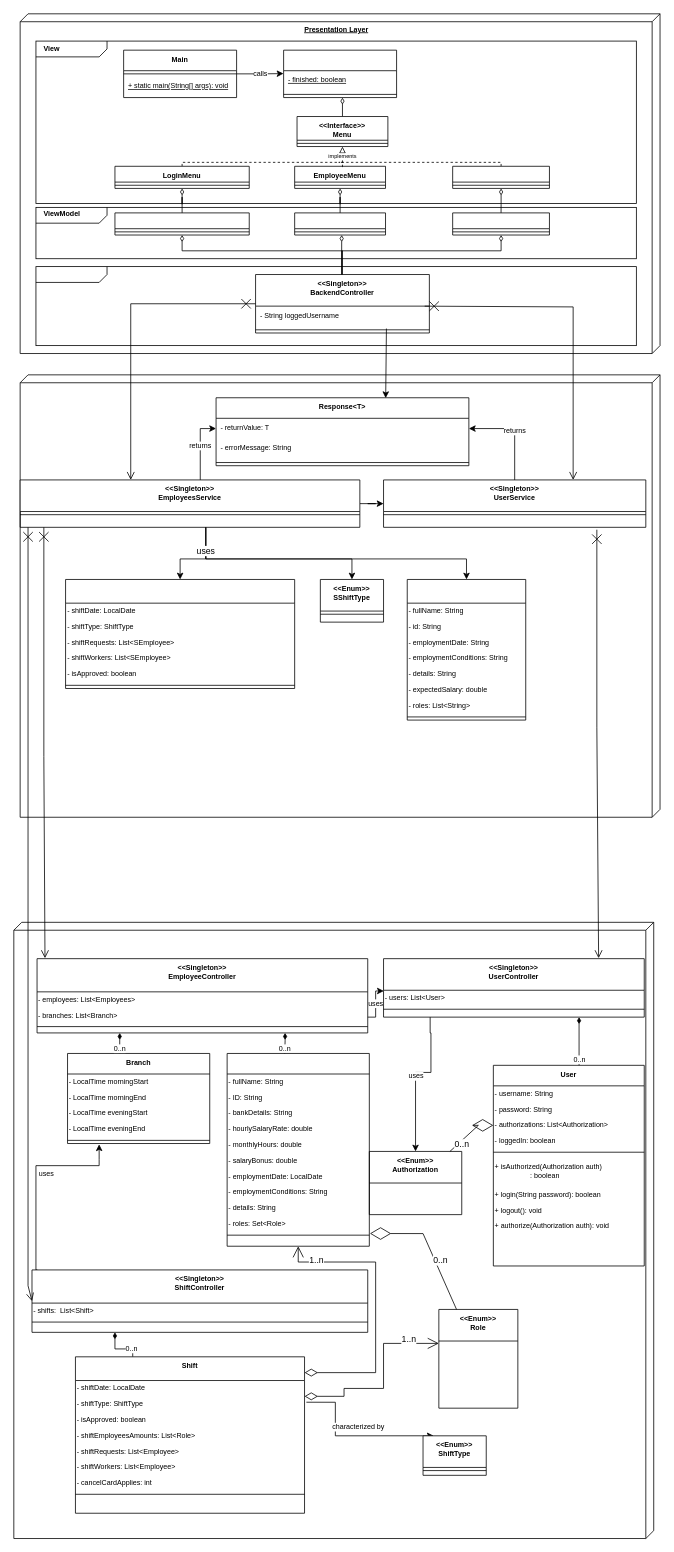
Some shapes in this 674 by 1552 pixel diagram are drawn without their labels. The box of each missing label's shape, as (x1, y1, x2, y2) in pixels:
Business Layer: (13, 922, 654, 1539)
Employee: (226, 1053, 369, 1246)
EmployeeMenuVM: (294, 212, 386, 235)
HRManagerMenu: (452, 166, 549, 188)
HRManagerMenuVM: (452, 212, 549, 235)
LoginMenuVM: (114, 212, 249, 235)
MenuManager: (283, 49, 397, 98)
Model: (35, 266, 636, 346)
SEmployee: (406, 579, 526, 720)
Service Layer: (19, 374, 660, 817)
SShift: (65, 579, 295, 688)
